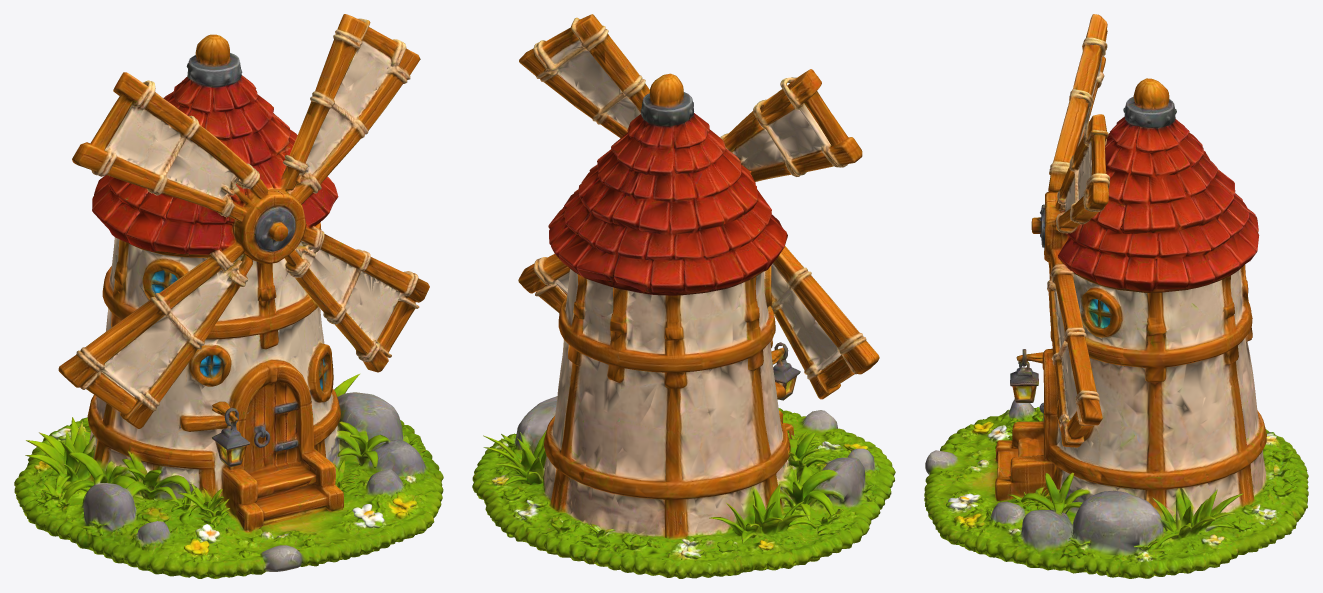
Rendered from Windmill.glb.
The picture shows the model from 3 angles, left to right: view 1: azimuth 30°, elevation 25°; view 2: azimuth 150°, elevation 25°; view 3: azimuth 270°, elevation 25°; orthographic projection. The views are drawn at different scales.
Bounding box in the file's own units: 1.65 × 1.9 × 1.55.
Materials: 1 (1 with a texture image).
